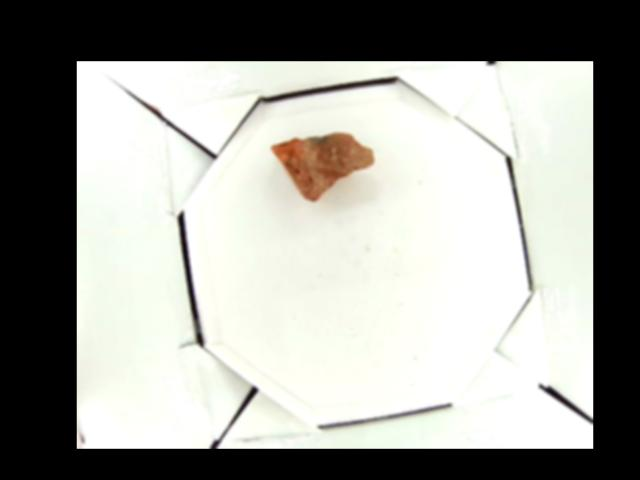Brisk: (269, 133, 373, 199)
